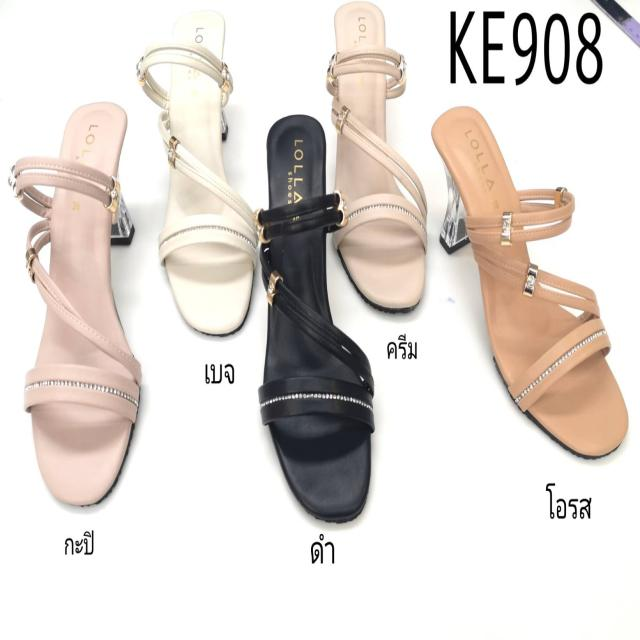bej: (161, 5, 259, 337)
black: (261, 120, 376, 520)
cream: (330, 0, 426, 314)
kapi: (29, 101, 137, 500)
orot: (435, 106, 626, 455)
